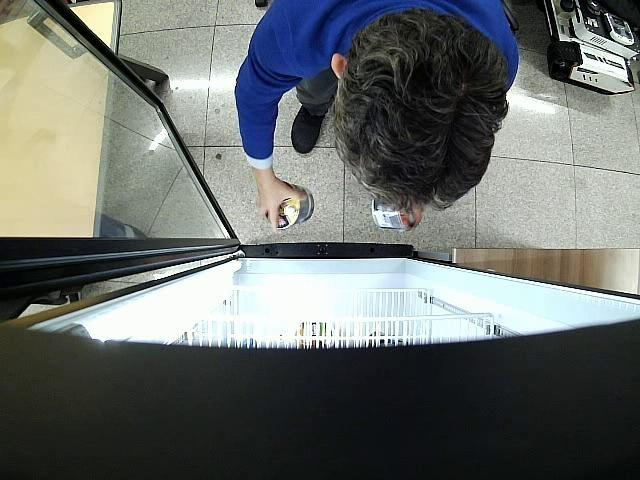07_buldak_L: (266, 182, 314, 229)
